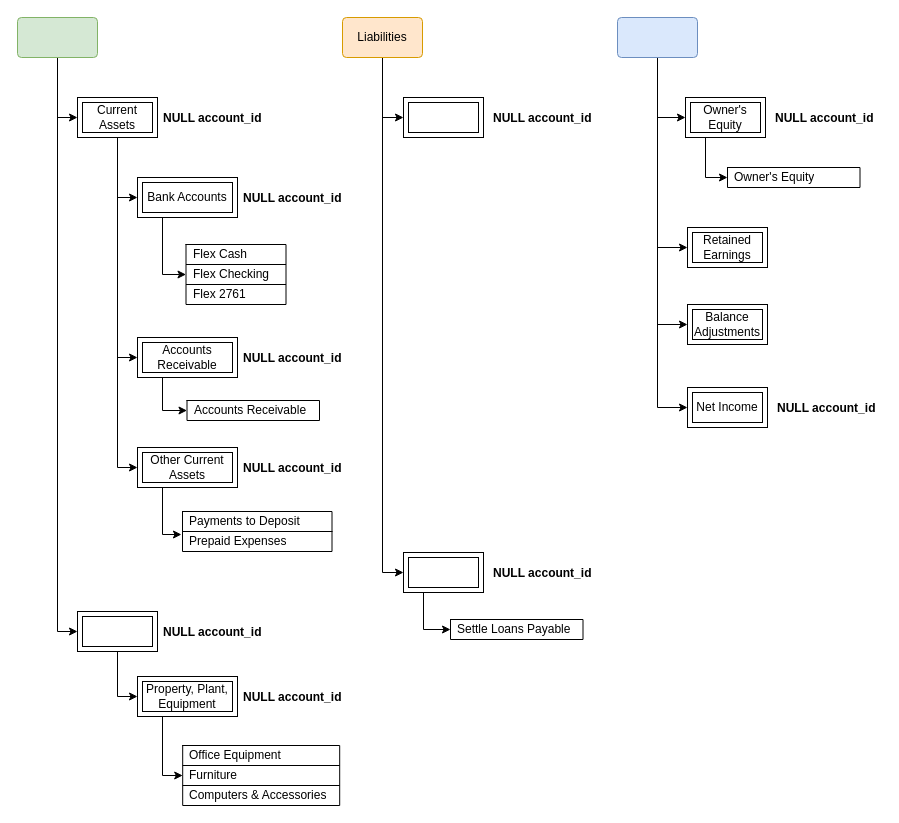
Some shapes in this 899 by 823 pixel diagram are drawn without their labels. Here are the shapes that lost their labels. From the top down, the box of each, then its label:
(16, 16, 98, 58): Assets
(616, 16, 698, 58): Equity
(402, 96, 484, 138): Current Liabilities
(402, 552, 484, 592): Long-Term Liabilities
(76, 610, 158, 652): Fixed Assets
